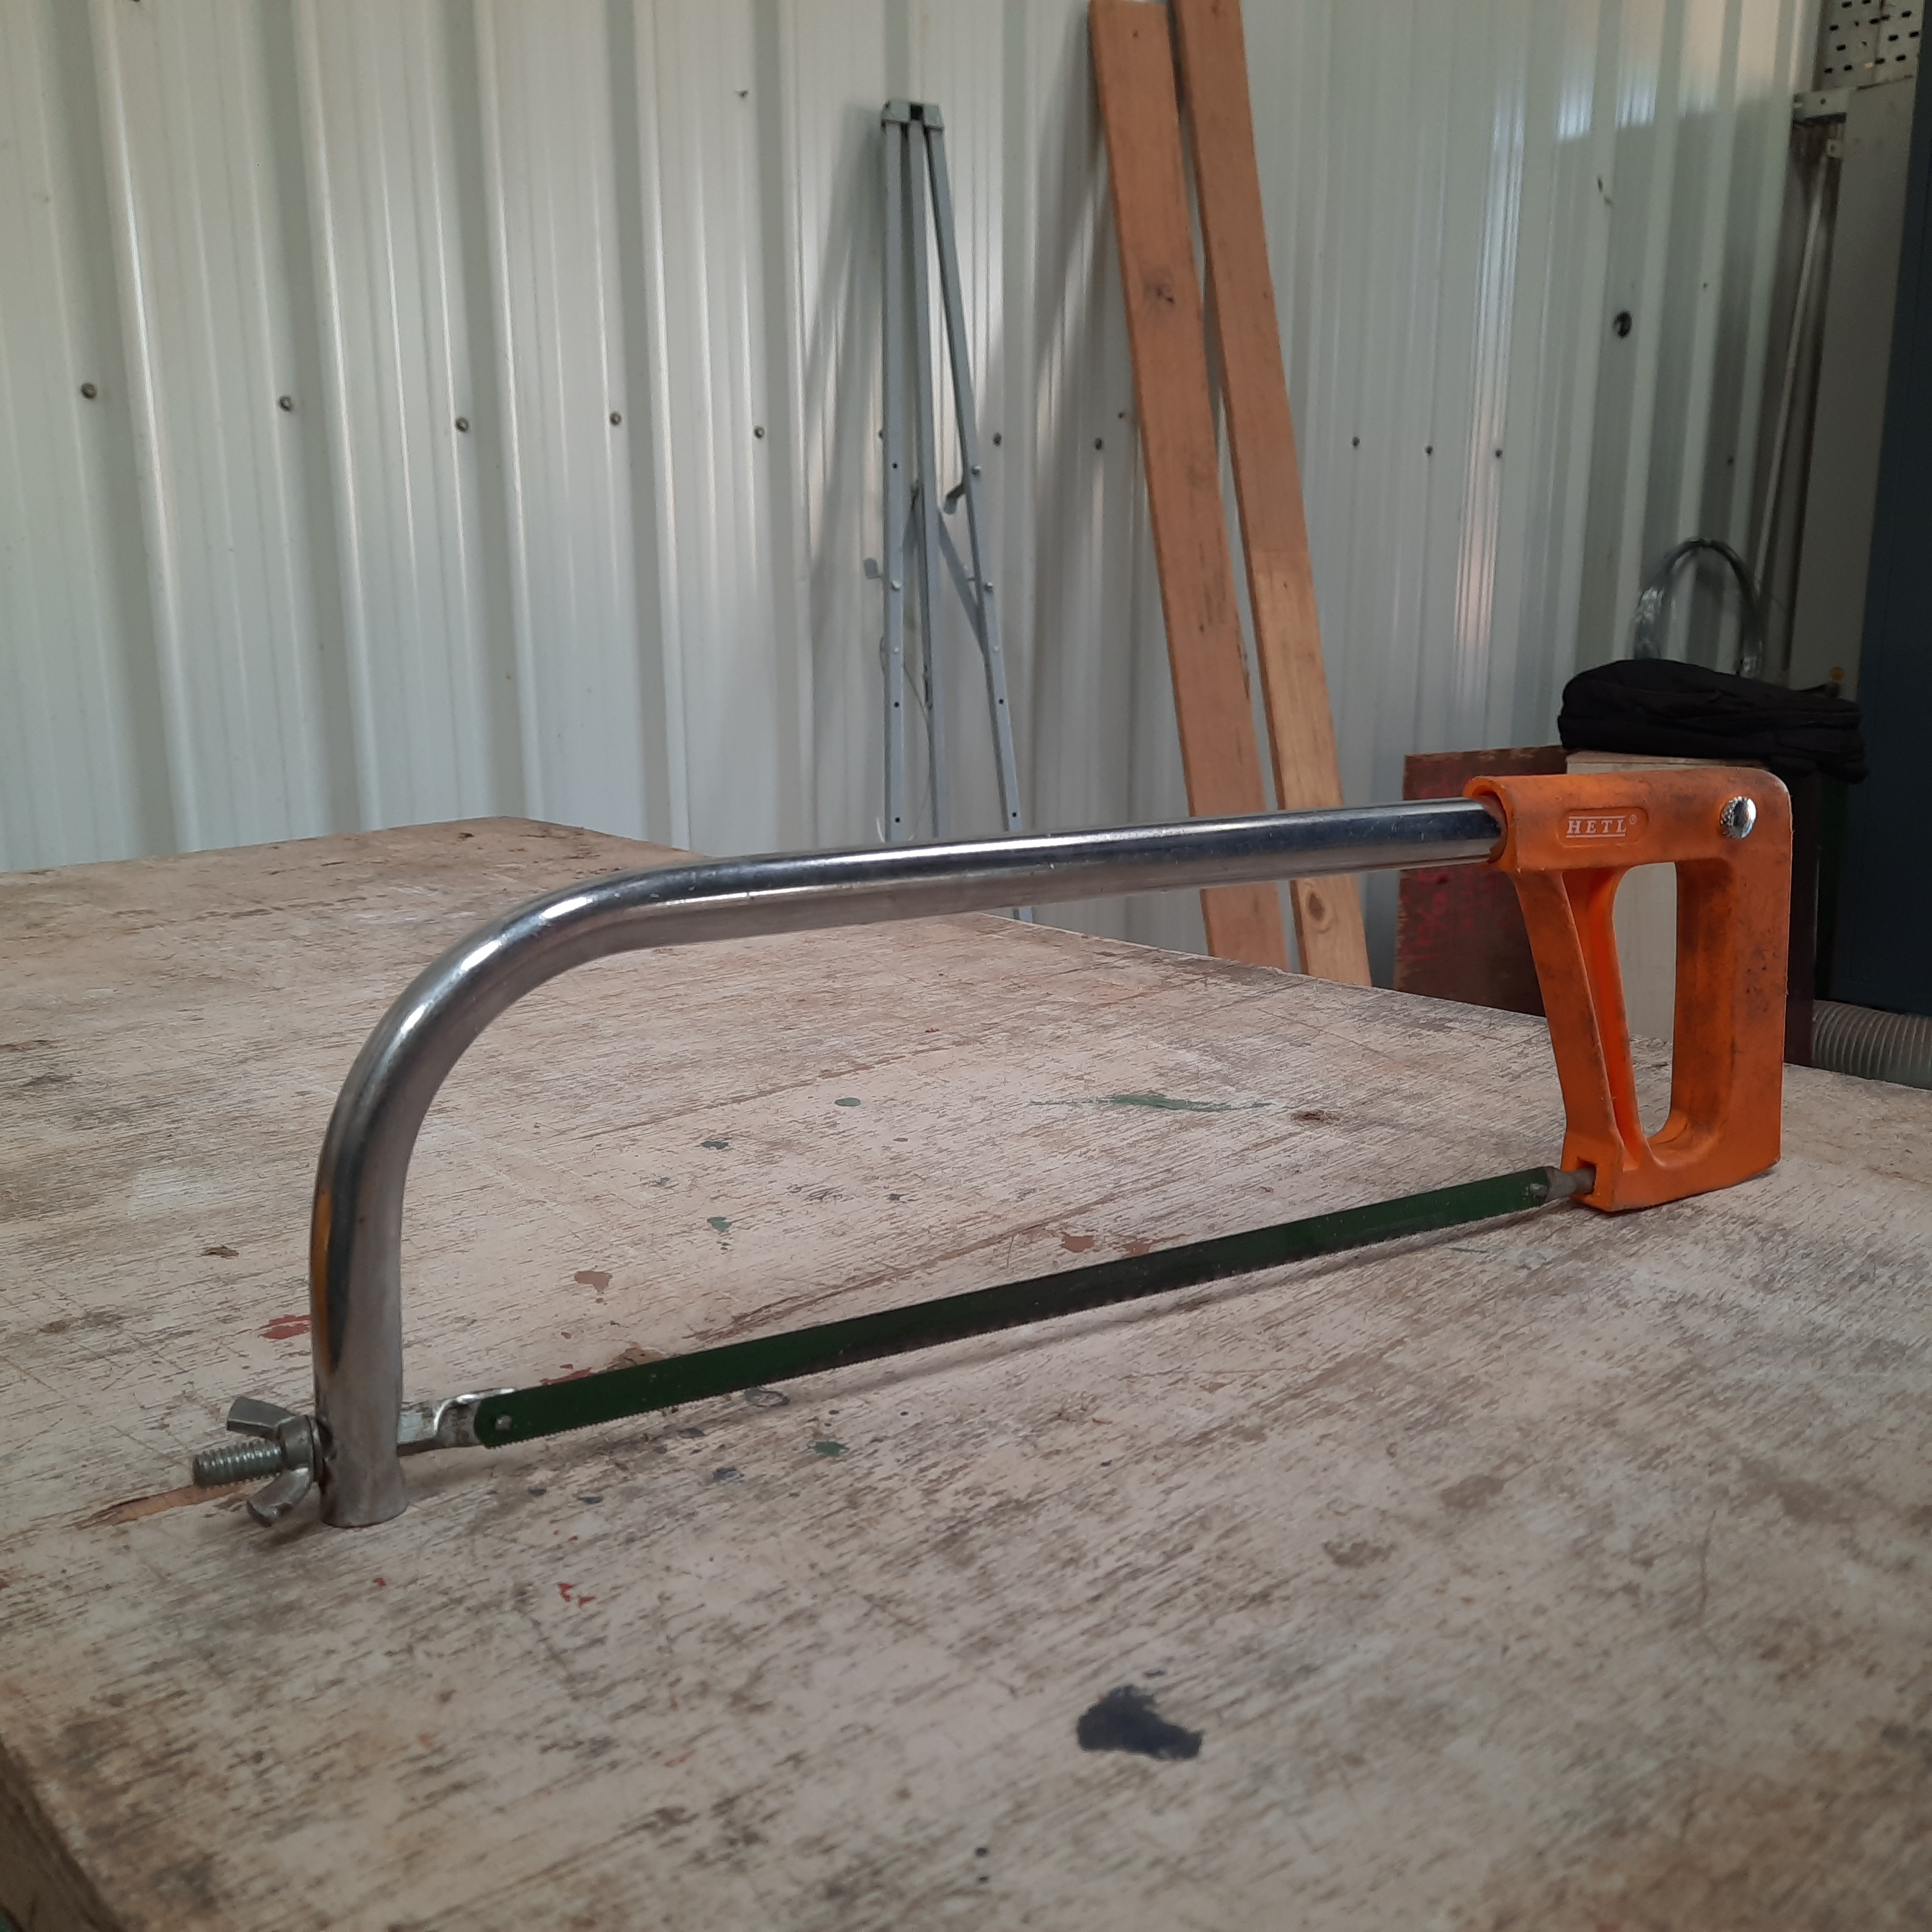Hexaframe: (264, 782, 1842, 1449)
